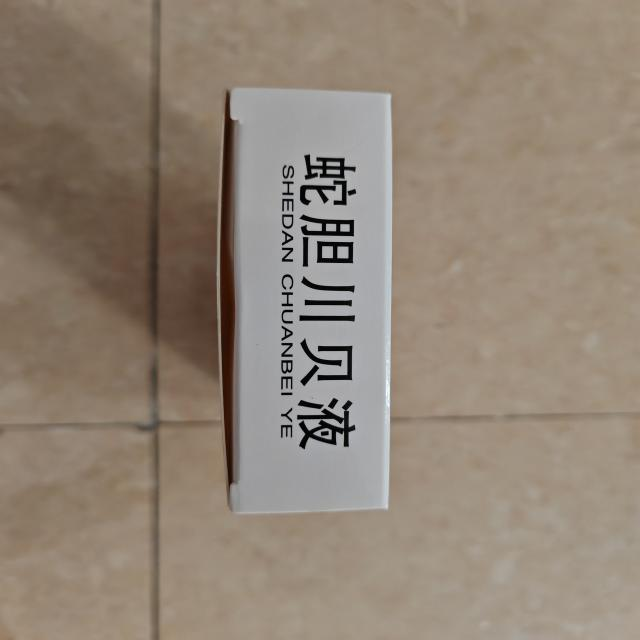box: (211, 79, 403, 523)
